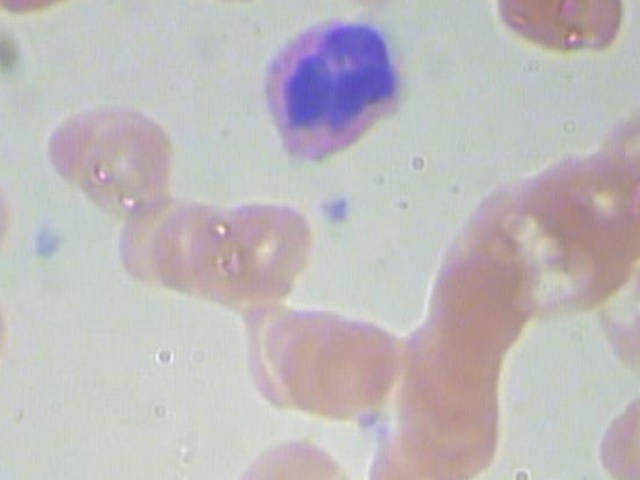Platelets: (318, 192, 355, 229), (26, 224, 63, 261)
RBC: (43, 103, 184, 220), (208, 186, 318, 305), (419, 245, 532, 352), (303, 307, 403, 413), (493, 0, 634, 68), (204, 426, 367, 480), (142, 201, 236, 294), (361, 427, 464, 480), (0, 274, 26, 381), (0, 158, 17, 275), (0, 384, 6, 480)
WBC: (248, 14, 416, 173)
